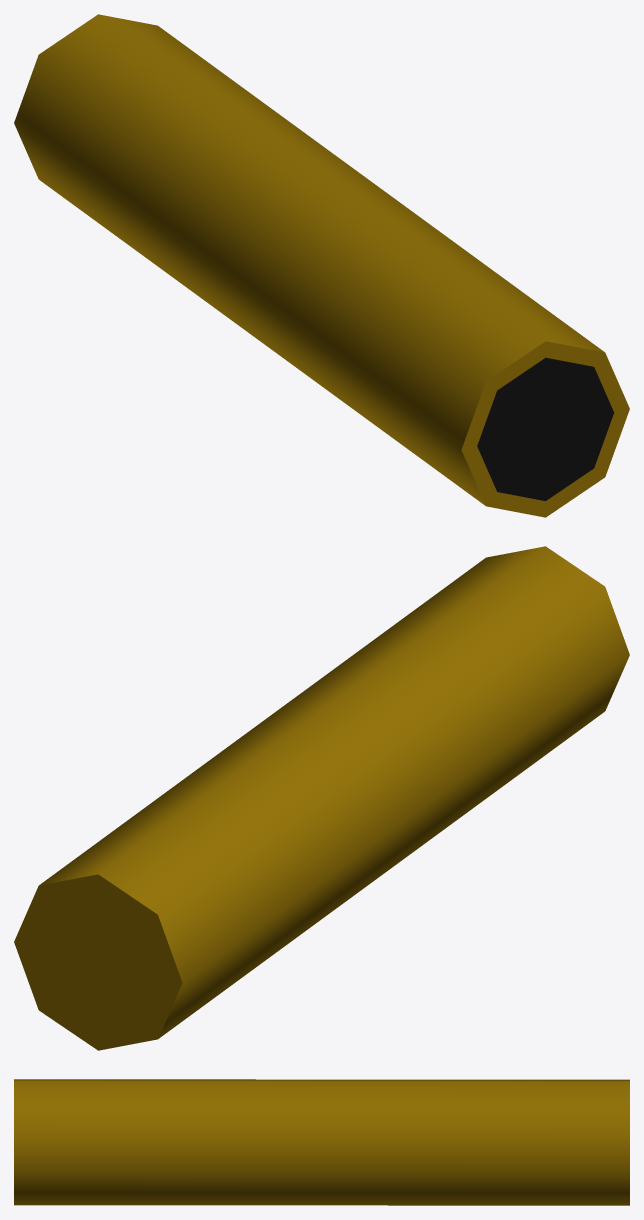
The model's file is l72 brass awal.fbx.
3 renders of one model, top to bottom at view 1: azimuth 30°, elevation 25°; view 2: azimuth 150°, elevation 25°; view 3: azimuth 270°, elevation 25°, orthographic. The views are drawn at different scales.
Parts seen in each view (by area): view 1: brass; view 2: brass; view 3: brass.
Boxes of the visible parts, x1=… form: brass: x1=14, y1=14, x2=629, y2=517; brass: x1=14, y1=546, x2=629, y2=1050; brass: x1=14, y1=1079, x2=629, y2=1205.
Size of the model in its own units: 3.62 by 3.63 by 16.65.
